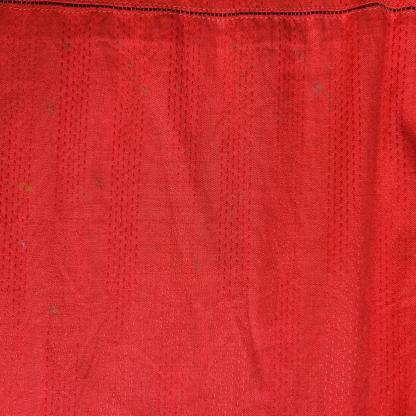spot: (291, 42, 305, 65), (46, 97, 60, 119), (312, 77, 324, 98), (19, 178, 33, 194), (48, 301, 61, 318), (94, 174, 106, 192), (124, 55, 134, 70), (140, 82, 150, 96), (88, 232, 102, 242), (62, 41, 71, 53), (167, 159, 175, 170), (195, 260, 201, 272), (313, 140, 319, 150), (195, 78, 201, 87), (221, 18, 226, 28), (132, 74, 138, 82), (174, 82, 180, 90), (240, 69, 245, 77), (117, 35, 121, 44), (34, 286, 38, 295), (233, 44, 236, 54), (18, 196, 22, 201)
